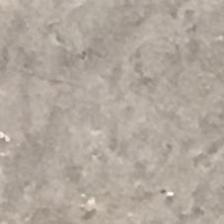Non_Crack: (30, 26, 204, 186)
